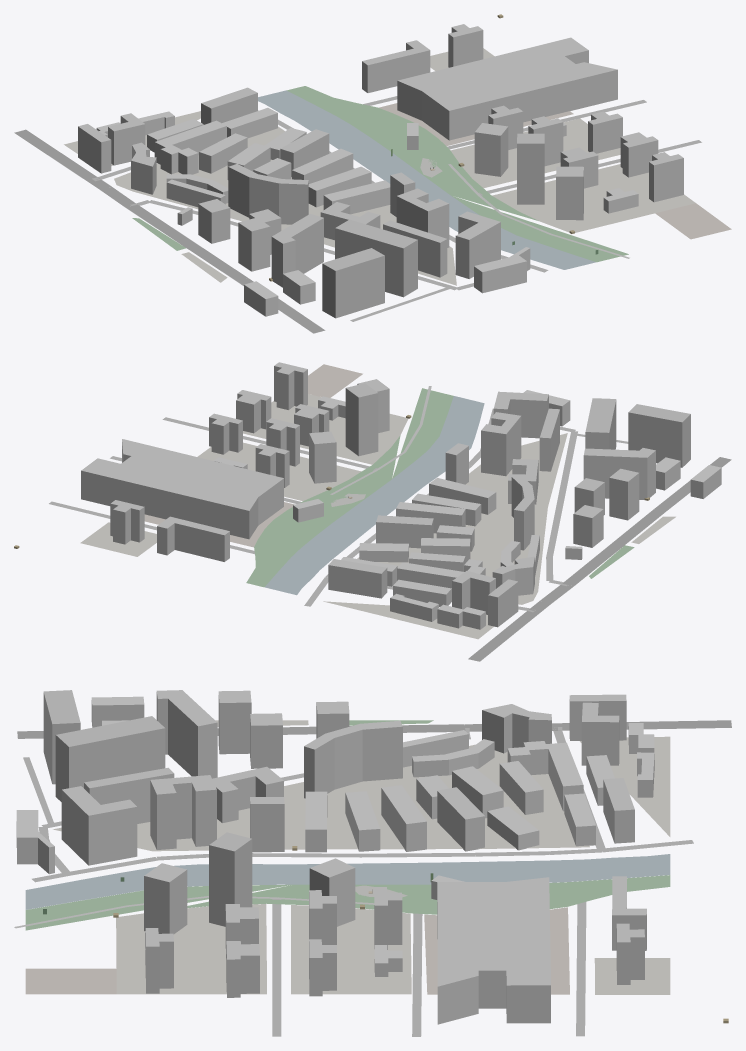
3 views of the same model, one above another, from view 1: azimuth 30°, elevation 25°; view 2: azimuth 150°, elevation 25°; view 3: azimuth 270°, elevation 25° (orthographic). The views are drawn at different scales.
Bounding box in the file's own units: 579 × 67.21 × 557.
